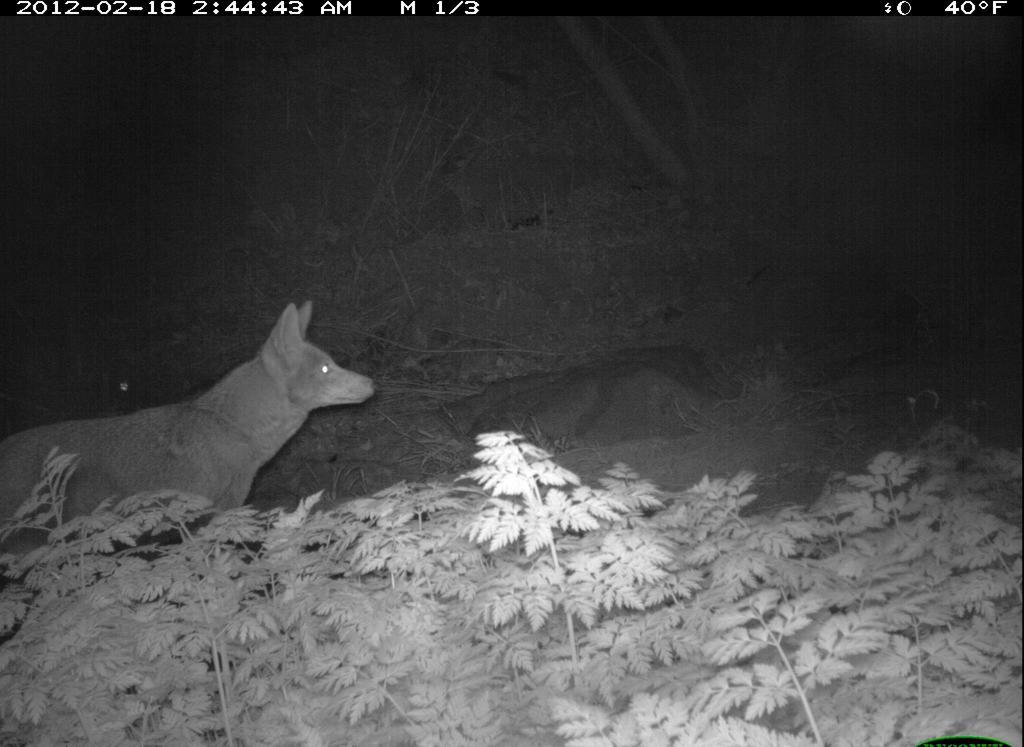coyote: (1, 289, 387, 580)
